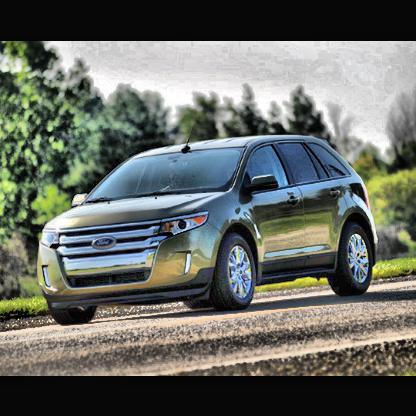Ford Edge SUV 2012: (37, 120, 379, 327)
